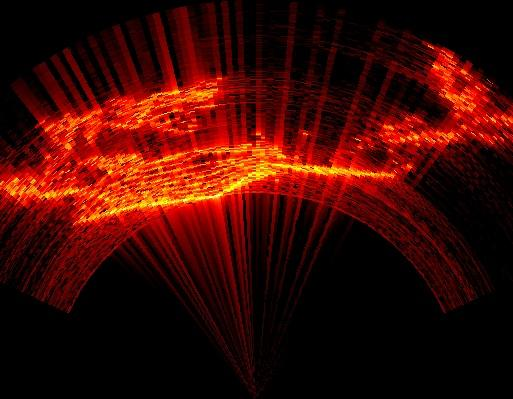shipwreck: (0, 144, 394, 214), (39, 79, 221, 151), (382, 116, 503, 146), (428, 50, 476, 110)
